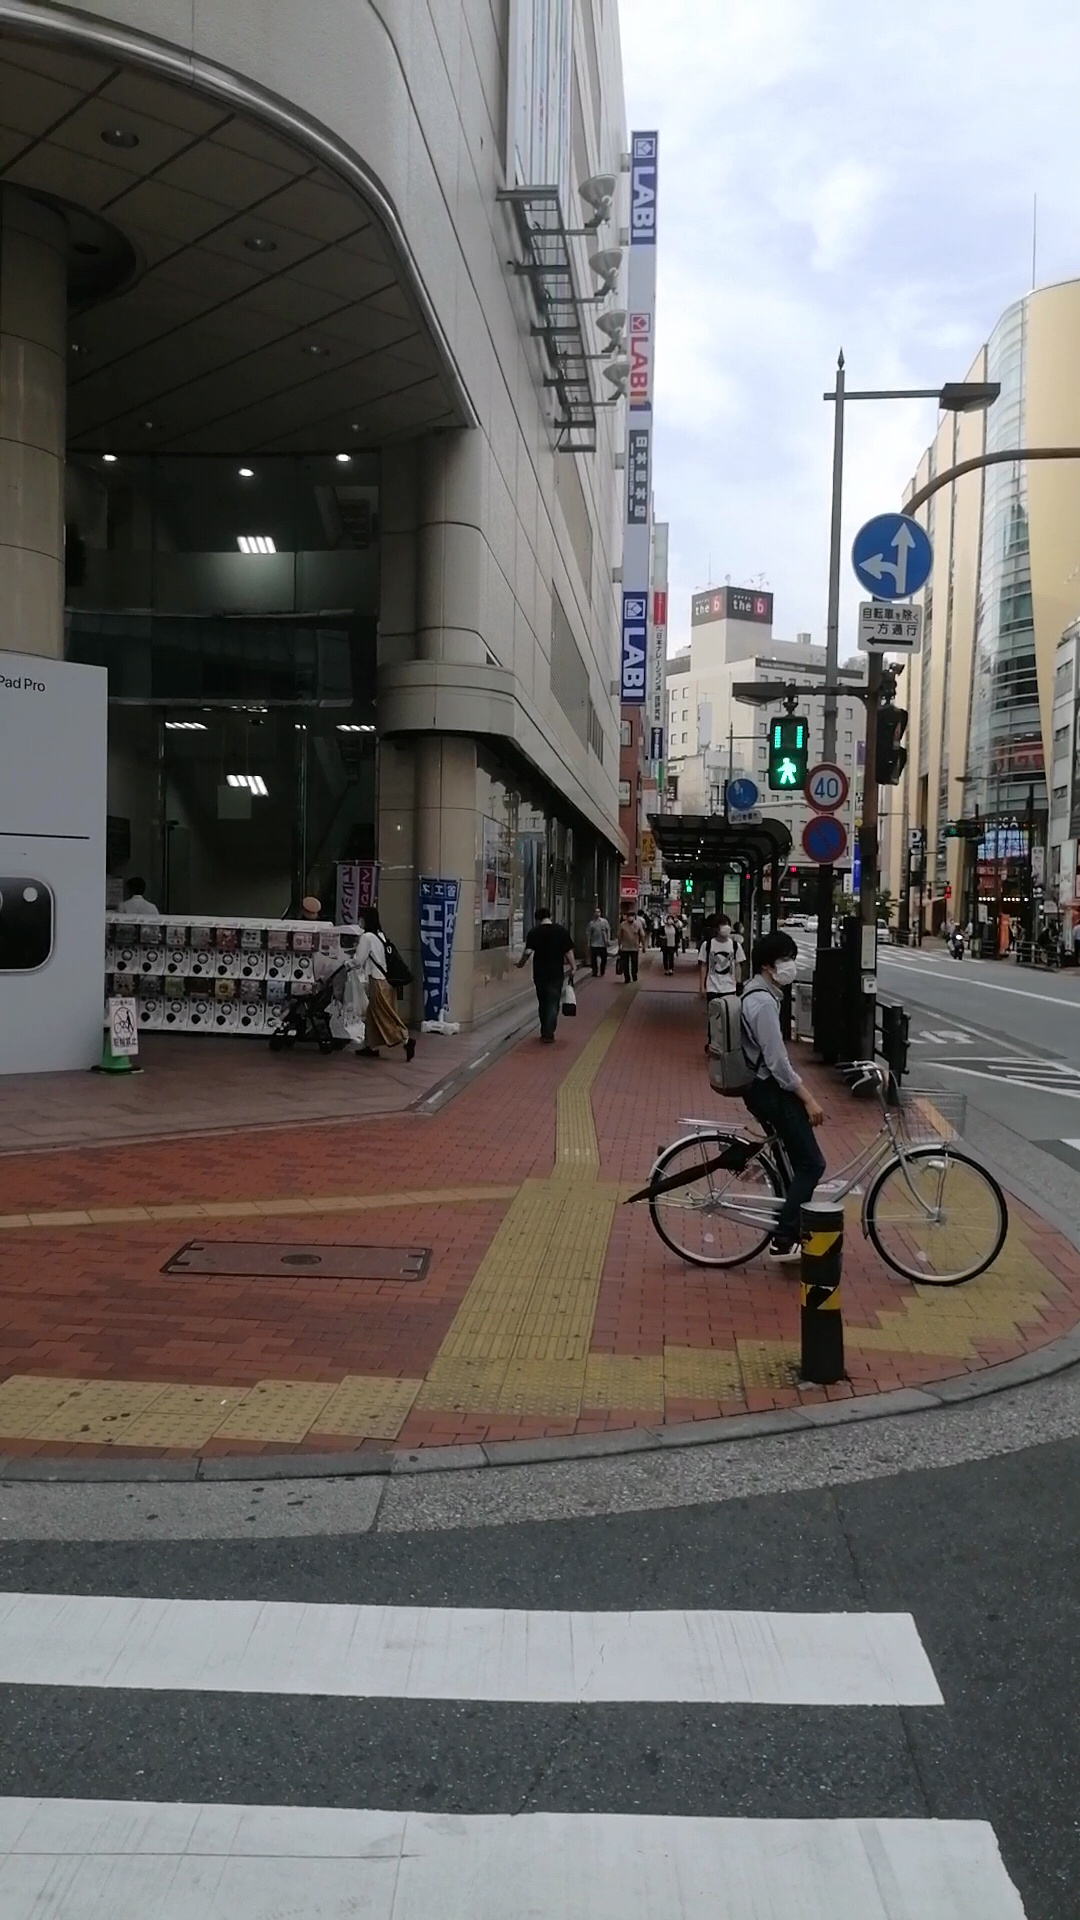green: (769, 716, 810, 790)
